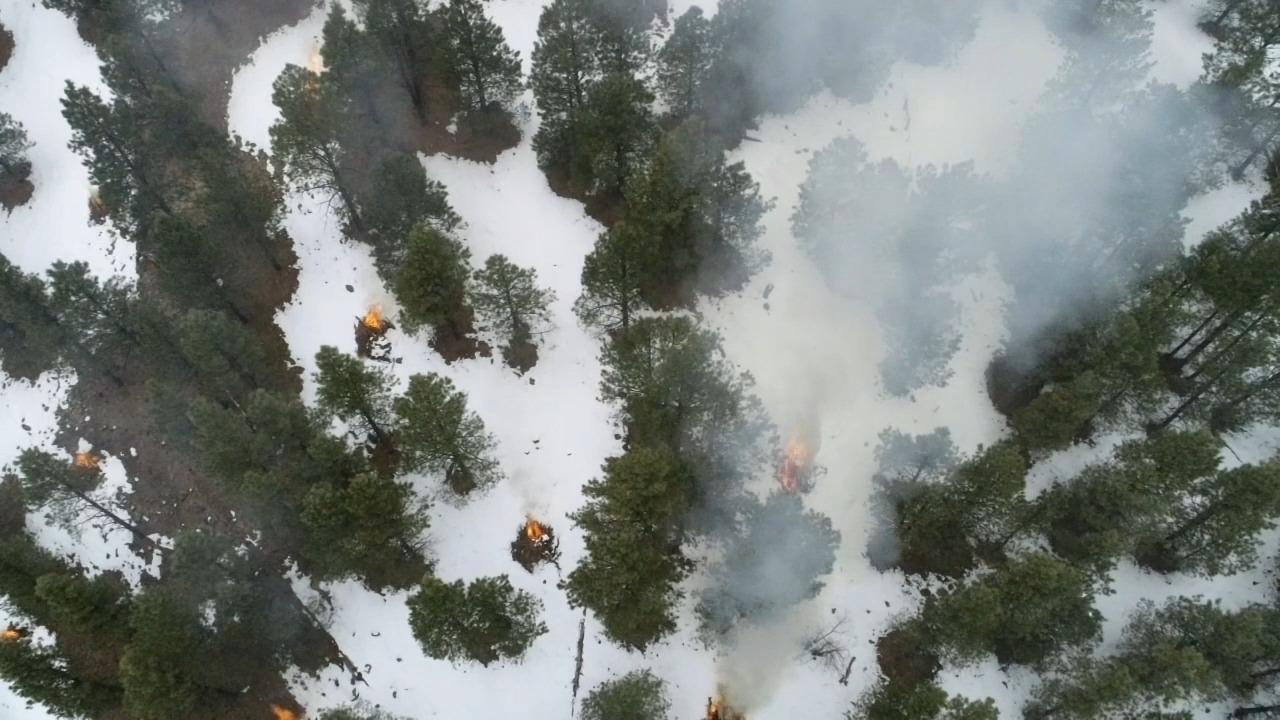fire: (771, 432, 819, 498), (518, 508, 549, 542), (357, 305, 386, 329)
smoke: (587, 1, 1200, 268), (670, 272, 1104, 546)
